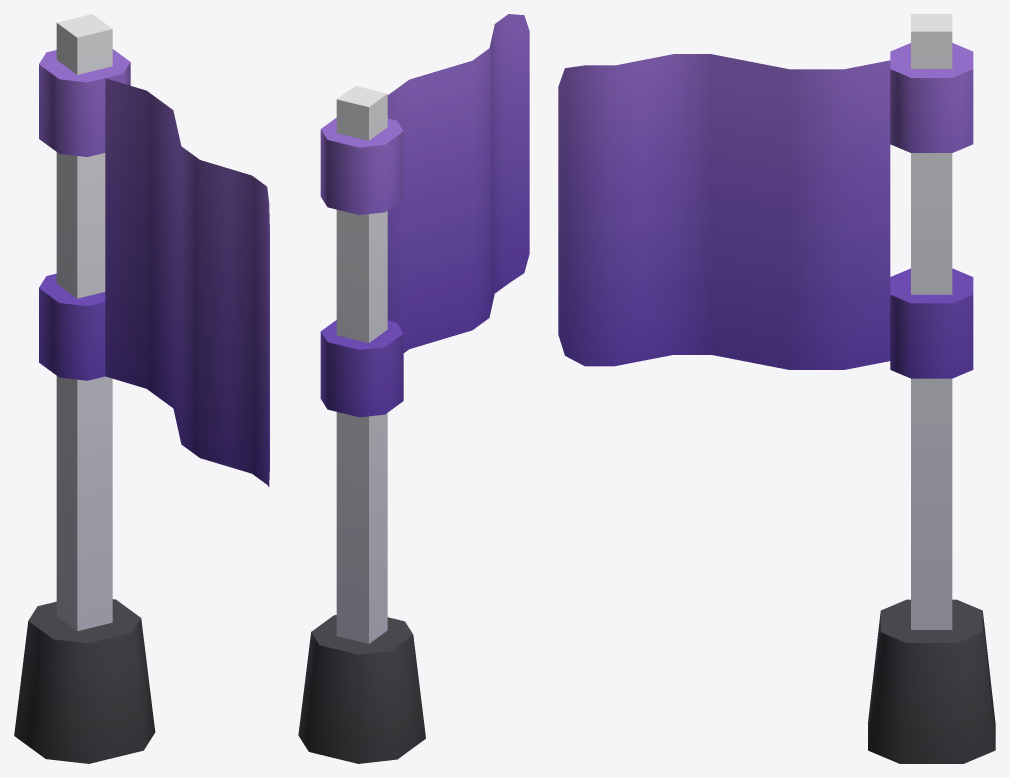
The model's file is flag.glb.
3 renders of one model, left to right at view 1: azimuth 30°, elevation 25°; view 2: azimuth 150°, elevation 25°; view 3: azimuth 270°, elevation 25°, orthographic. The views are drawn at different scales.
Visible parts, largest first — view 1: flag; view 2: flag; view 3: flag.
Boxes of the visible parts, x1,y1,x2,y2 form: flag: (14,14,269,763); flag: (298,14,529,763); flag: (558,14,995,763).
Size of the model in its own units: 0.1999 by 1.24 by 0.685.
1 material, 1 textured.
